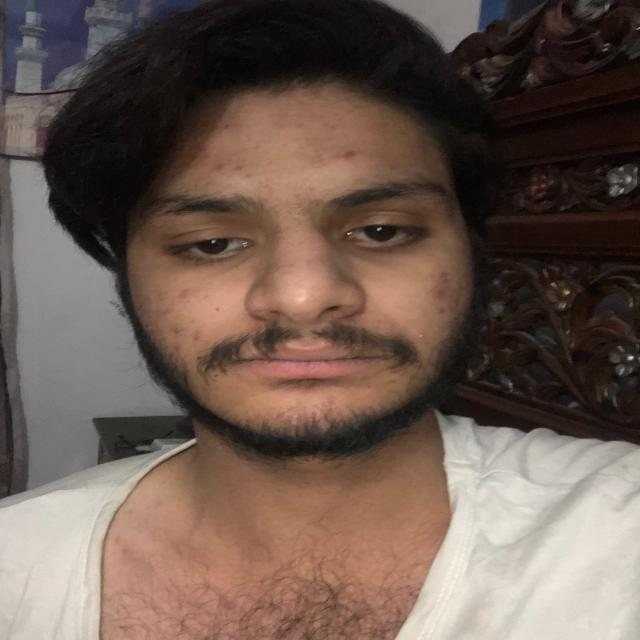Acne: (428, 270, 453, 300), (335, 149, 360, 161), (187, 327, 203, 341), (153, 304, 173, 315), (308, 154, 322, 168), (178, 288, 191, 300), (435, 302, 447, 315), (216, 122, 233, 131), (278, 261, 293, 271), (171, 322, 185, 332), (416, 331, 428, 342), (385, 377, 400, 384), (397, 130, 406, 141), (187, 156, 199, 164), (302, 175, 312, 184), (296, 120, 306, 129), (387, 162, 396, 172), (307, 185, 318, 193), (216, 161, 225, 170), (244, 171, 254, 178), (235, 163, 243, 171), (204, 179, 212, 186), (292, 192, 301, 198), (253, 144, 260, 151)
